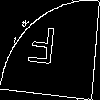F: (24, 25, 58, 74)
